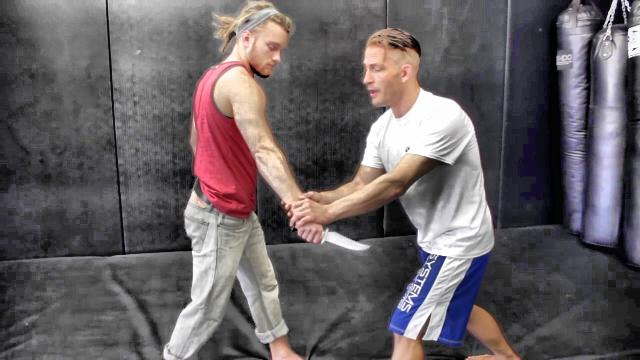knife: (289, 222, 375, 258)
